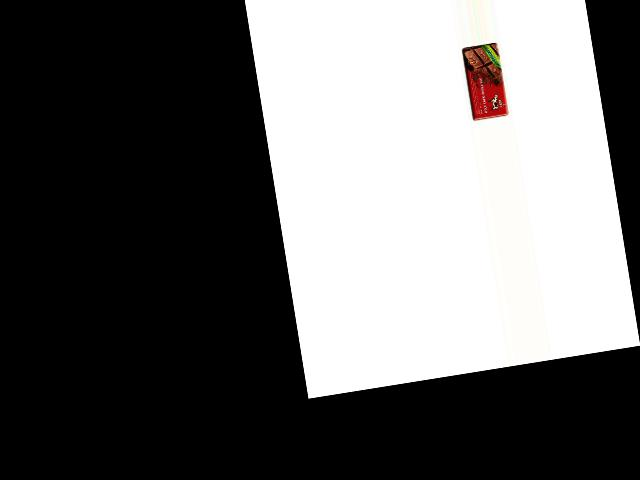chocolate: (459, 41, 509, 122)
